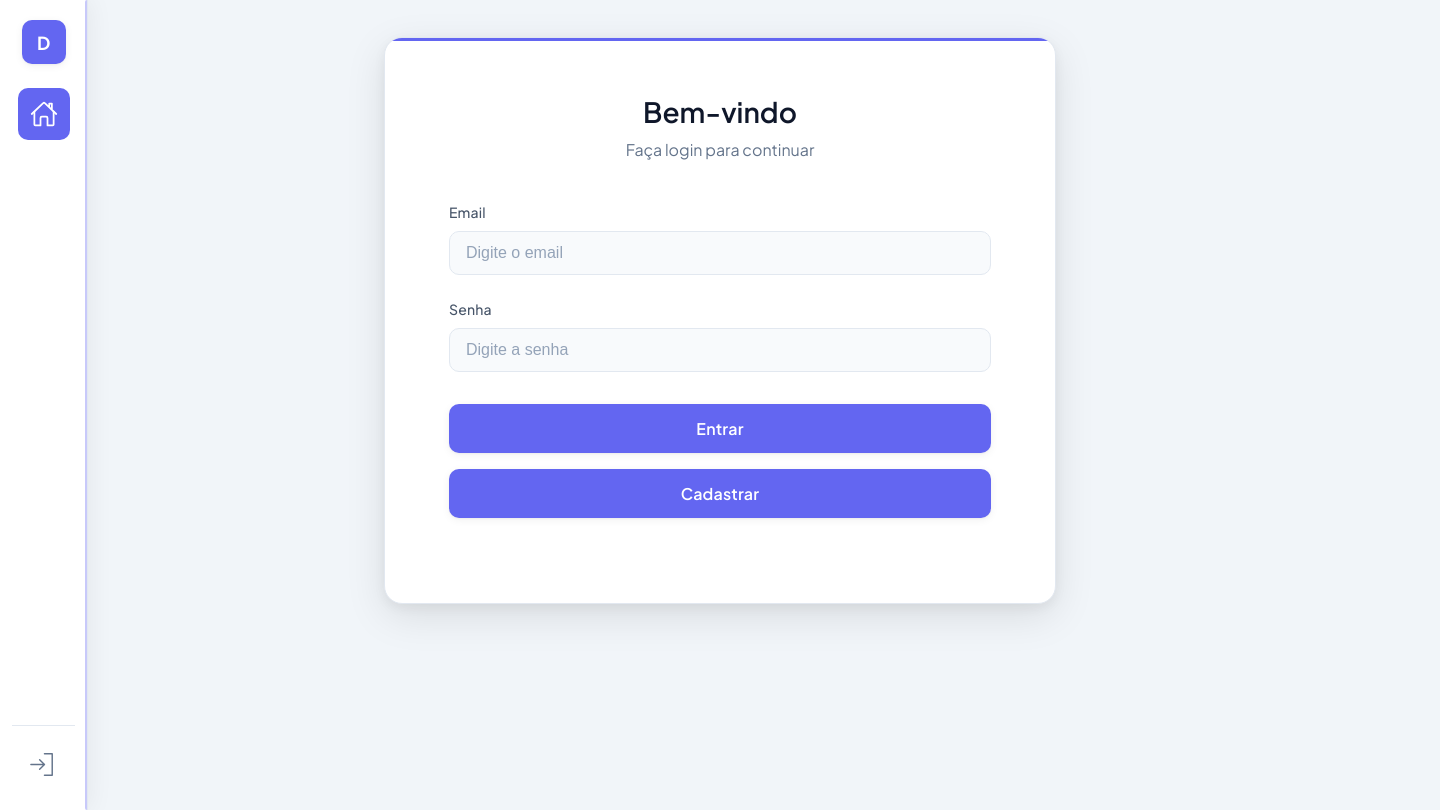
Login Page › should not redirect to the home page after an unsuccessful login
Type "gui@gmail.com" into the field with placeholder "Digite o email".
click(720, 253); type("gui@gmail.com")  # box top-left (449, 231), bottom-right (991, 275)
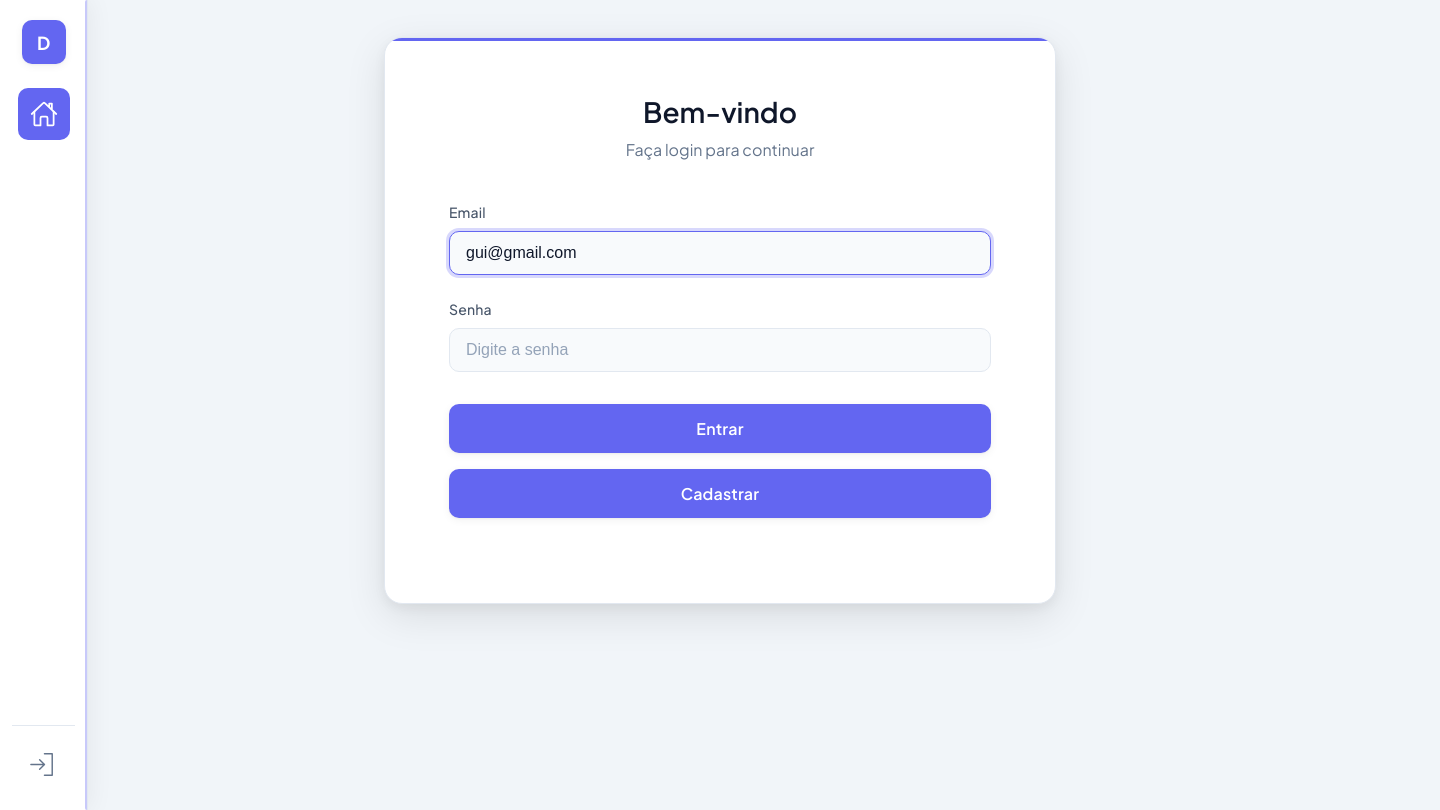
Type "123456" into the password field with placeholder "Digite a senha".
click(720, 350); type("123456")  # box top-left (449, 328), bottom-right (991, 372)
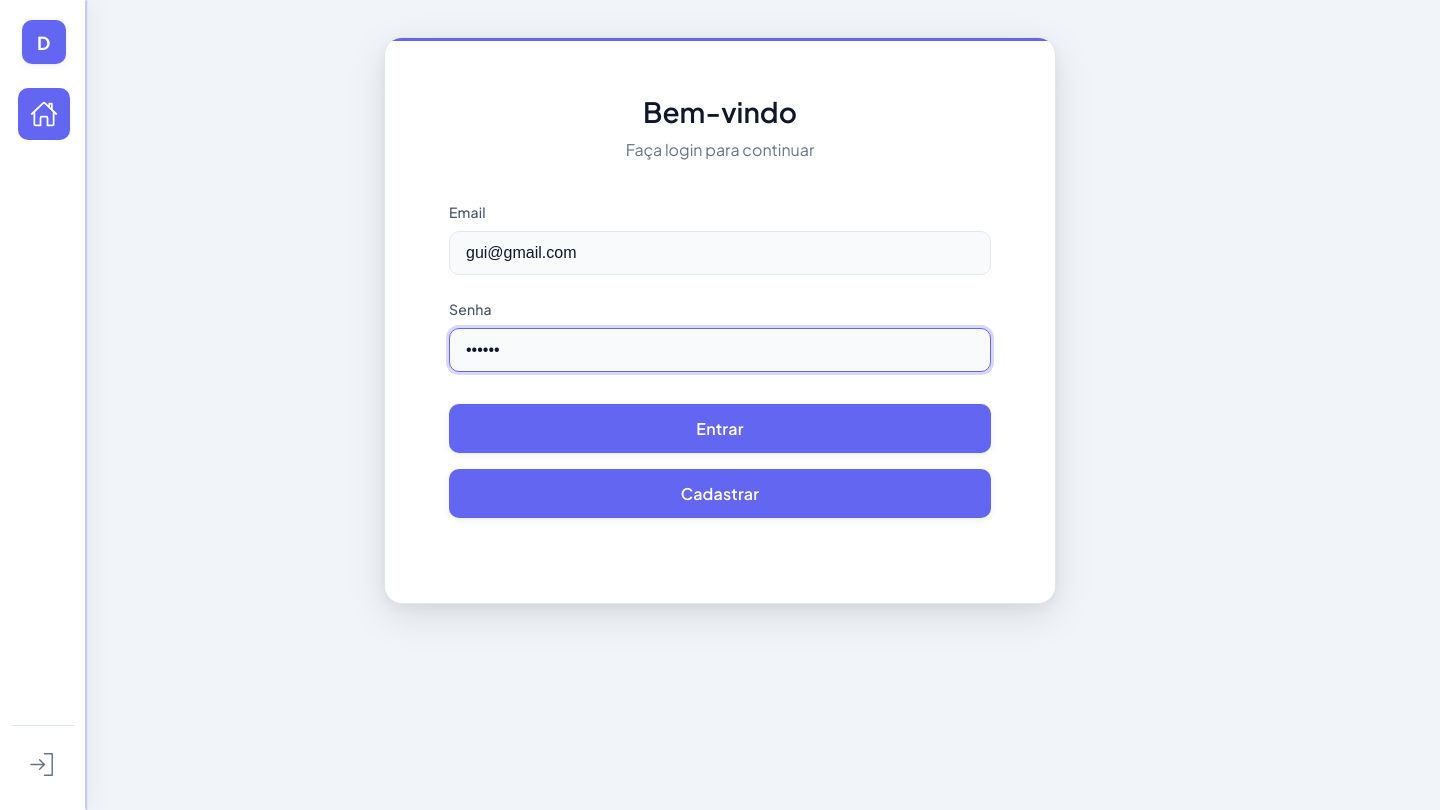
Click the button "Entrar".
click(720, 429)  # box top-left (449, 404), bottom-right (991, 453)
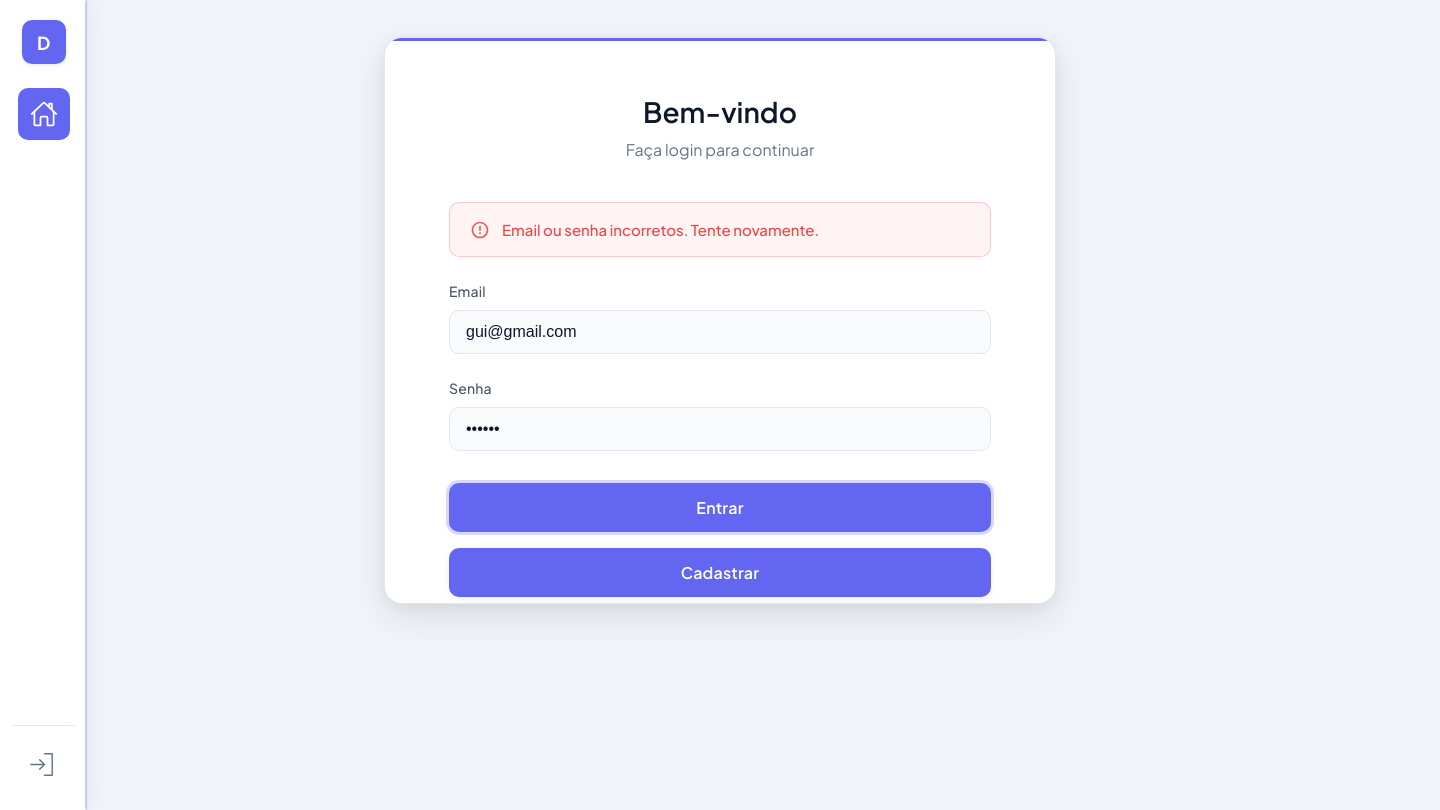
Check: the text "Email ou senha incorretos. Tente novamente." is shown, box top-left (502, 219), bottom-right (819, 240)
